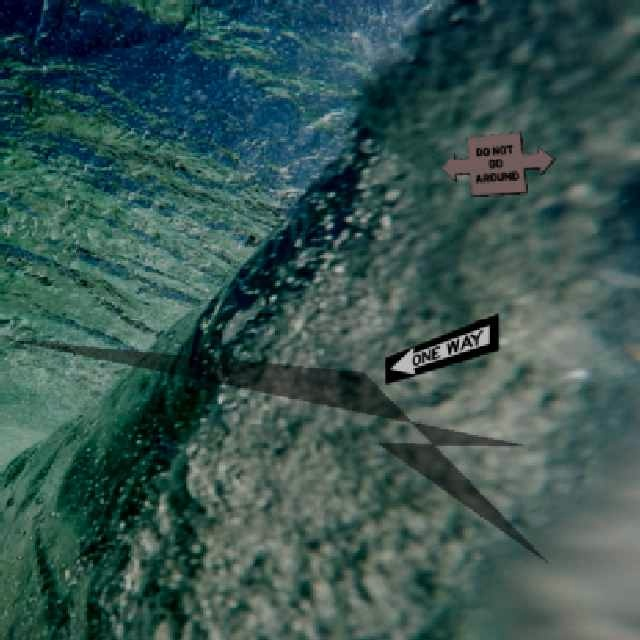DO_NOT_GO_AROUND: (439, 130, 554, 195)
ONE_WAY_ left: (383, 311, 498, 383)
